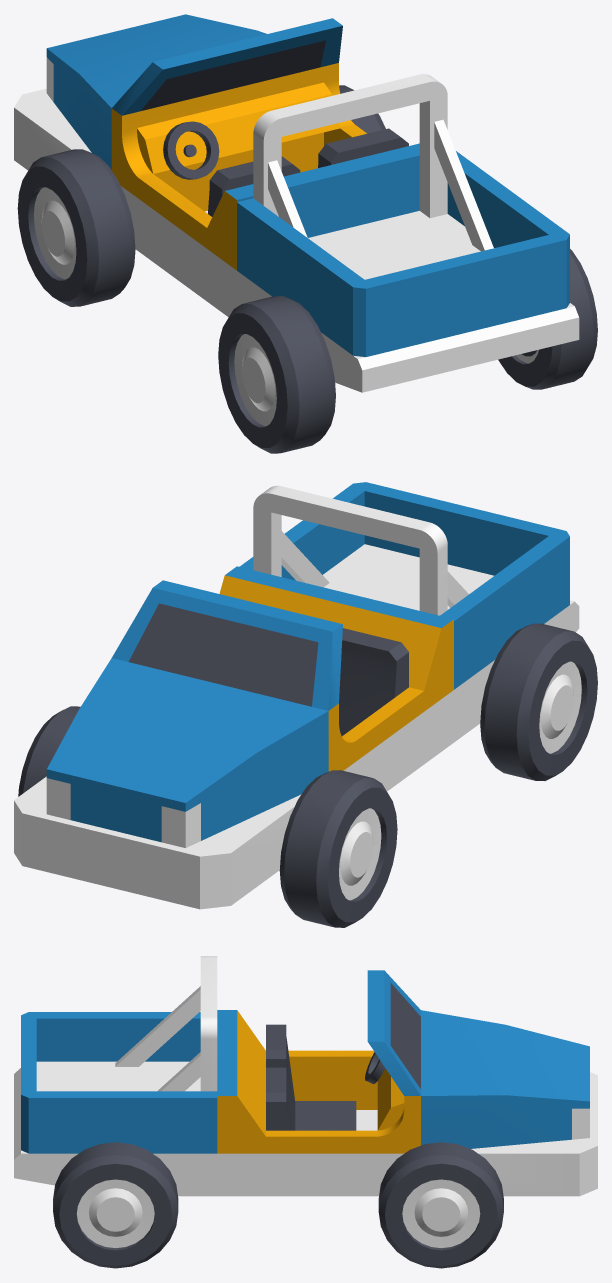
Rendered from car_3.fbx.
The picture shows the model from 3 angles, top to bottom: view 1: azimuth 30°, elevation 25°; view 2: azimuth 150°, elevation 25°; view 3: azimuth 270°, elevation 25°; orthographic projection. The views are drawn at different scales.
Visible parts, largest first — view 1: windshield_jeep_402, trunk_bed_405, hood_truck_403, wheel_small_409, wheel_small_410, detail_rollbar_411, wheel_small_407; view 2: hood_truck_403, windshield_jeep_402, trunk_bed_405, wheel_small_409, wheel_small_410, detail_rollbar_411, wheel_small_408; view 3: windshield_jeep_402, trunk_bed_405, hood_truck_403, wheel_small_408, wheel_small_407, detail_rollbar_411.
Part boxes in pixels (bbox=[...]): windshield_jeep_402: bbox=[111, 18, 419, 317]; trunk_bed_405: bbox=[237, 151, 579, 392]; hood_truck_403: bbox=[14, 14, 266, 170]; wheel_small_409: bbox=[17, 149, 135, 306]; wheel_small_410: bbox=[218, 296, 335, 453]; detail_rollbar_411: bbox=[253, 74, 493, 251]; wheel_small_407: bbox=[498, 249, 597, 389]; hood_truck_403: bbox=[14, 658, 328, 909]; windshield_jeep_402: bbox=[112, 566, 453, 791]; trunk_bed_405: bbox=[239, 482, 579, 742]; wheel_small_409: bbox=[279, 770, 397, 927]; wheel_small_410: bbox=[480, 623, 597, 780]; detail_rollbar_411: bbox=[253, 485, 468, 615]; wheel_small_408: bbox=[18, 706, 80, 796]; windshield_jeep_402: bbox=[217, 970, 420, 1196]; trunk_bed_405: bbox=[14, 1012, 217, 1196]; hood_truck_403: bbox=[421, 1010, 597, 1196]; wheel_small_408: bbox=[378, 1142, 503, 1268]; wheel_small_407: bbox=[53, 1142, 178, 1268]; detail_rollbar_411: bbox=[115, 956, 217, 1091].
Size of the model in its own units: 14.31 by 12.08 by 28.7.
